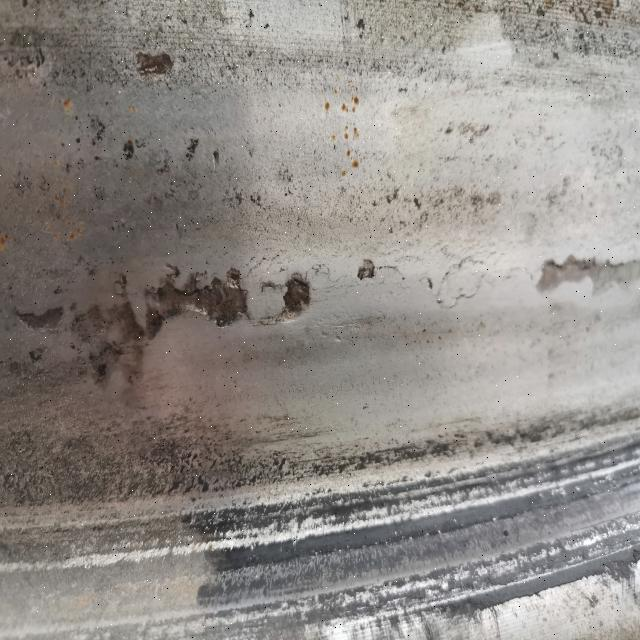boli: (0, 253, 329, 388), (522, 246, 640, 310)
